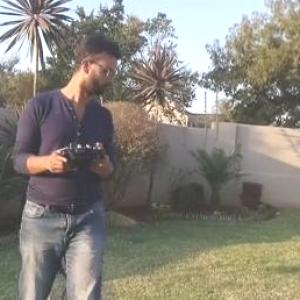follow: (7, 24, 123, 299)
